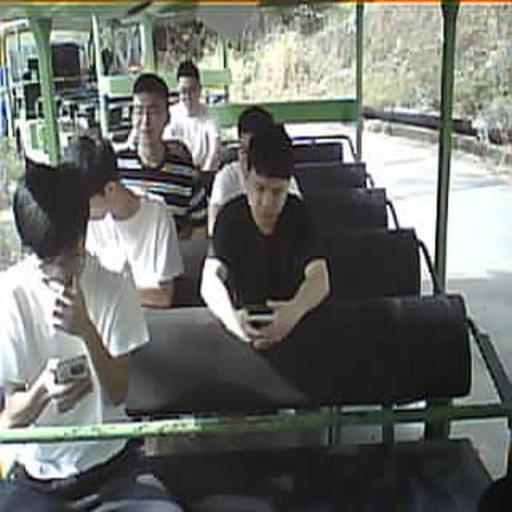persona: (0, 149, 152, 509), (199, 121, 332, 352), (68, 132, 186, 308), (108, 72, 208, 239), (206, 105, 304, 238), (161, 60, 222, 173)
